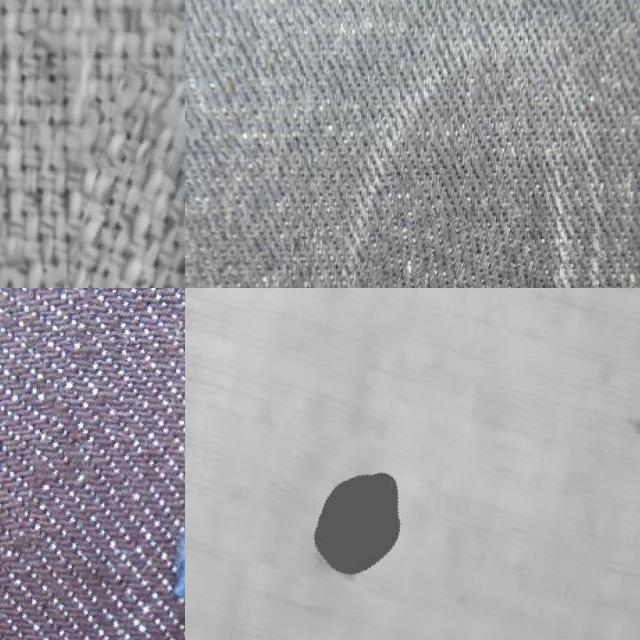Thread_other: (254, 430, 438, 596)
other: (63, 84, 185, 288)
stains: (6, 288, 185, 640), (353, 212, 538, 288)
